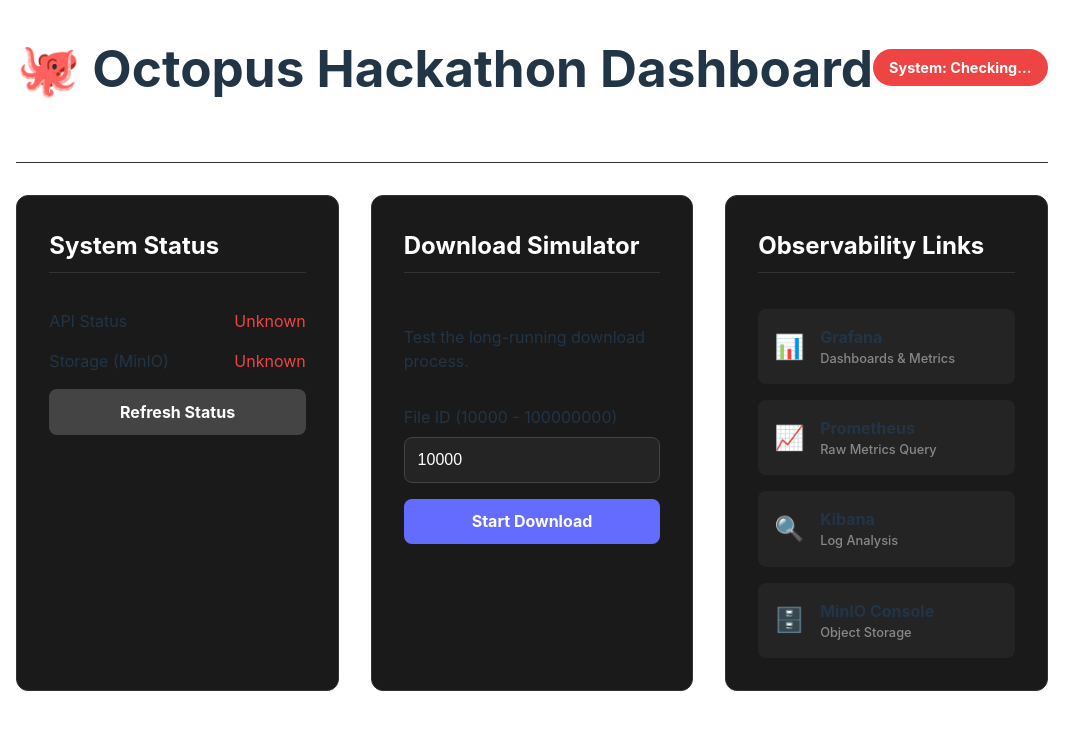
it: App Dashboard › handles download simulation
Replace the text in the number field labelled "File ID (10000 - 100000000)" with "12345" at (532, 460), box [404, 437, 660, 483]
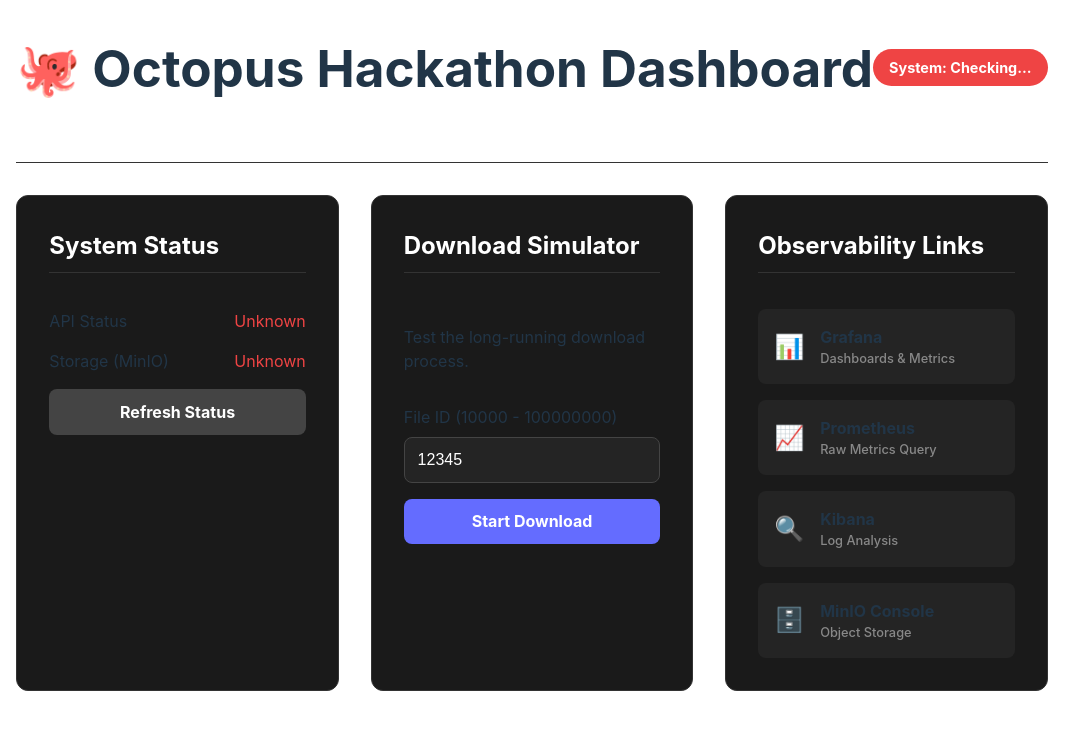
Click the button "Start Download" at (532, 521), box [404, 499, 660, 544]
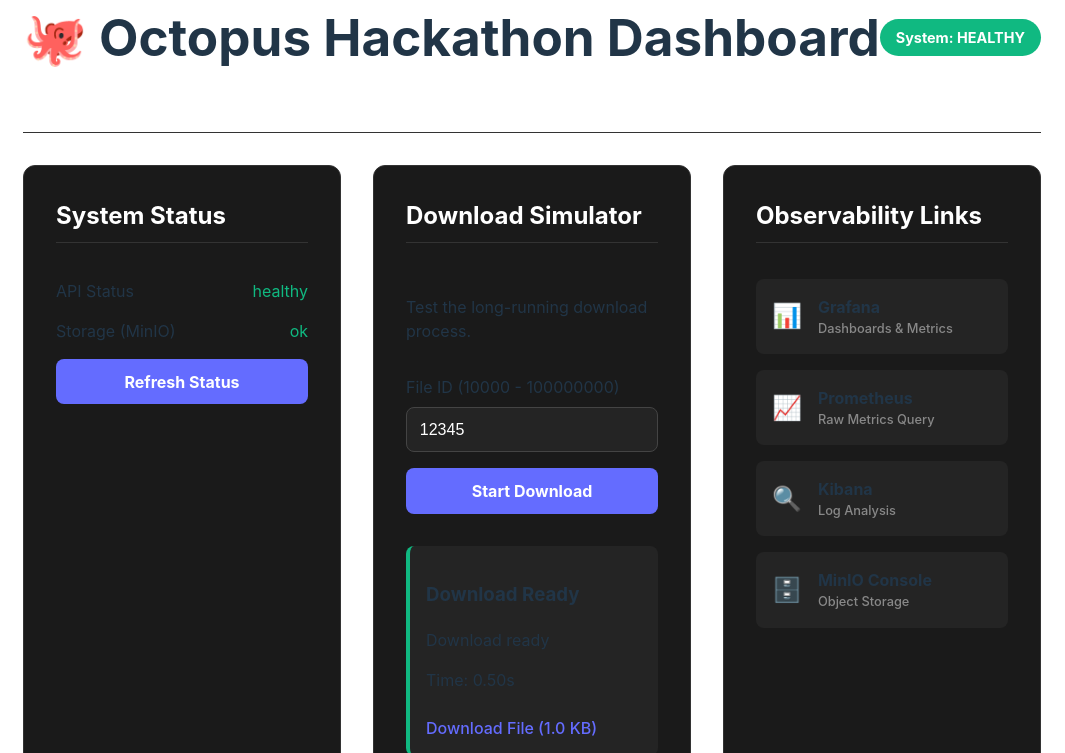
Check: the heading "Download Ready" is shown, box [426, 583, 580, 606]
